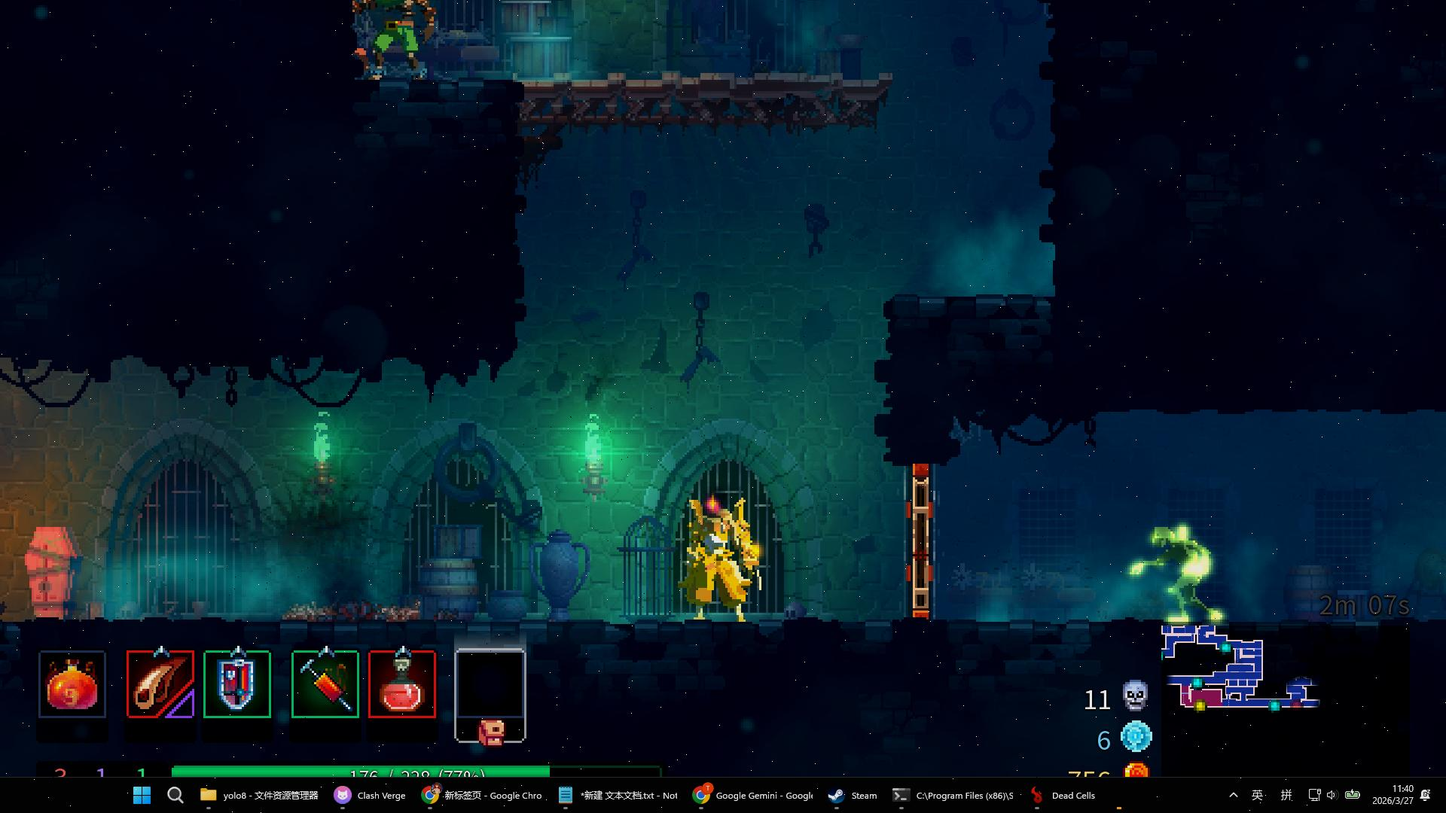gamer: (678, 491, 767, 622)
green1: (1129, 520, 1234, 626)
